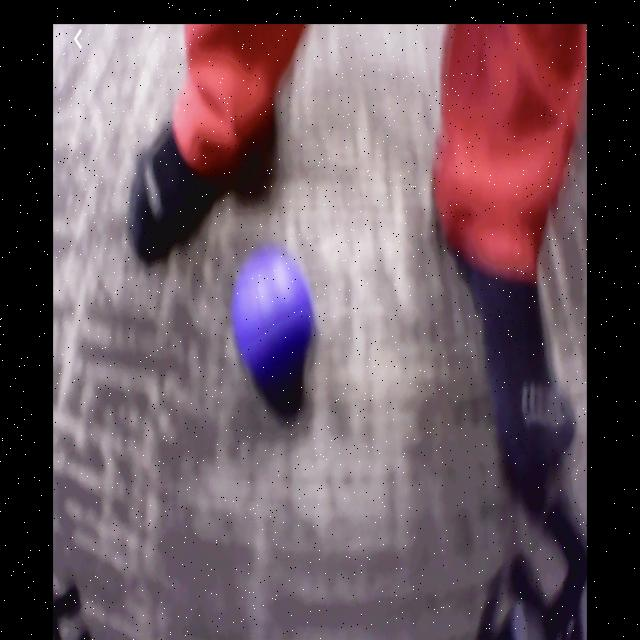ball: (232, 251, 313, 375)
